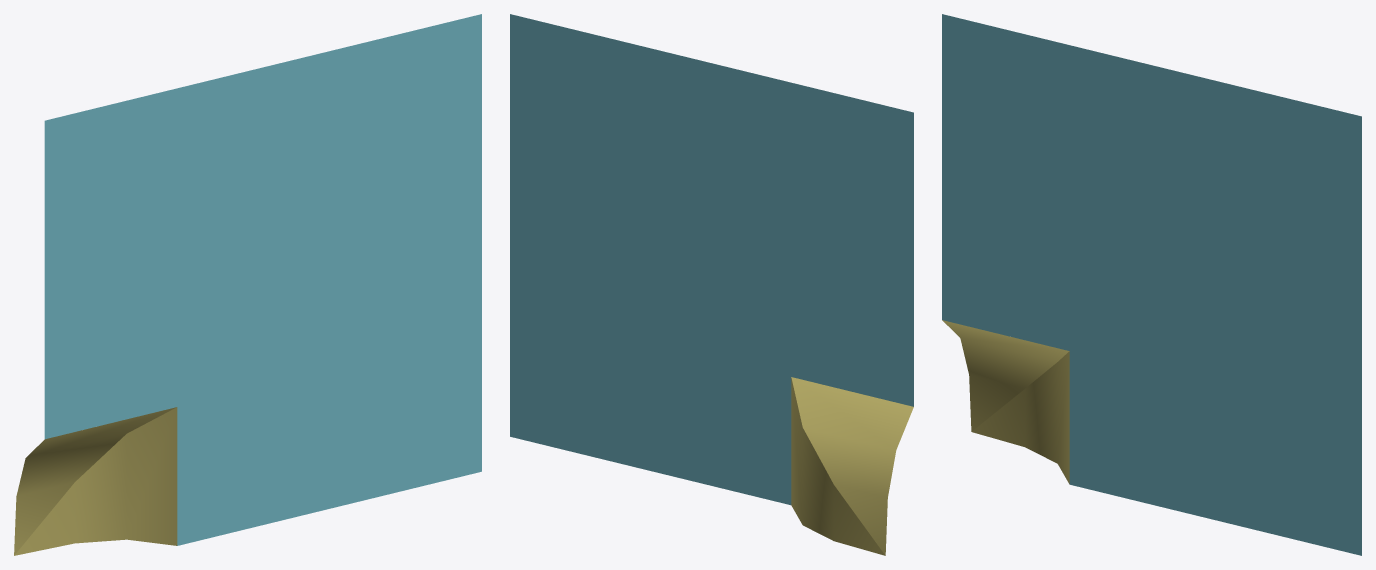
File: Env_FloorTile_BeachCornerB.fbx
The picture shows the model from 3 angles, left to right: view 1: azimuth 30°, elevation 25°; view 2: azimuth 150°, elevation 25°; view 3: azimuth 330°, elevation 25°; orthographic projection. The views are drawn at different scales.
Visible parts, largest first — view 1: Env_FloorTile_BeachCornerB; view 2: Env_FloorTile_BeachCornerB; view 3: Env_FloorTile_BeachCornerB.
Part boxes in pixels (bbox=[...]): Env_FloorTile_BeachCornerB: bbox=[14, 14, 481, 555]; Env_FloorTile_BeachCornerB: bbox=[510, 14, 913, 555]; Env_FloorTile_BeachCornerB: bbox=[942, 14, 1361, 555].
Bounding box in the file's own units: 1 × 1 × 0.1212.
